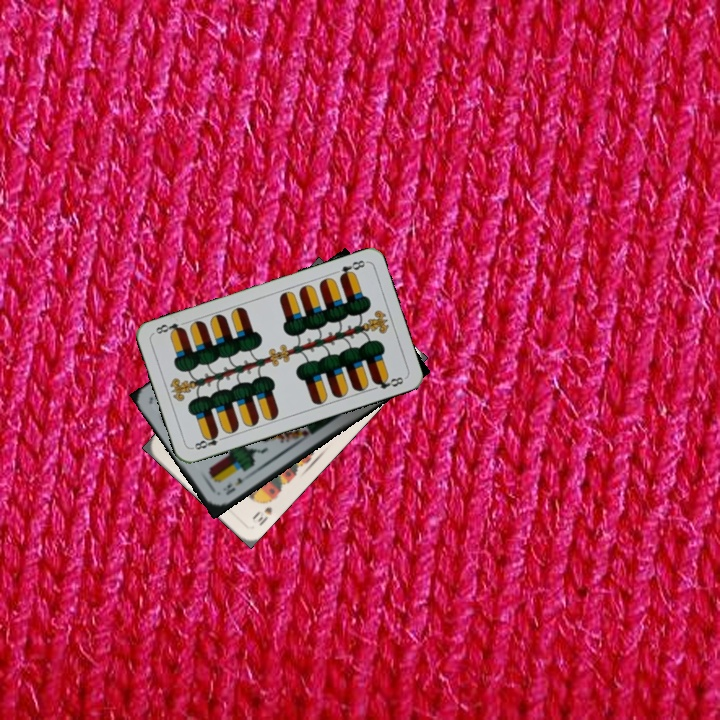E8: (189, 429, 228, 452), (335, 256, 368, 282)
EK: (221, 470, 252, 498)
S10: (248, 493, 277, 528)
